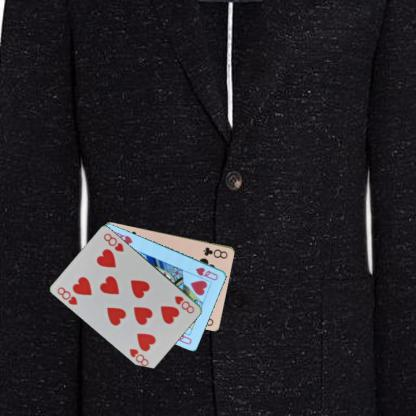8c: (201, 244, 229, 260)
8h: (172, 293, 196, 315), (55, 284, 78, 306)
Qh: (193, 264, 220, 282)
